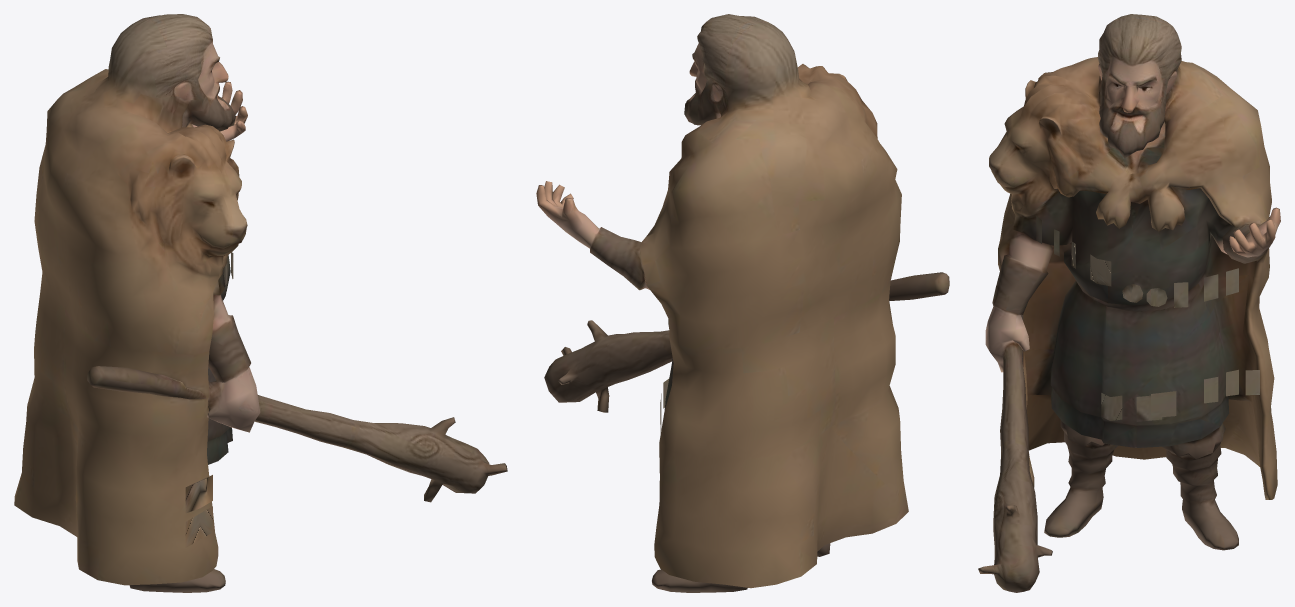
File: ogma.glb
3 renders of one model, left to right at view 1: azimuth 30°, elevation 25°; view 2: azimuth 150°, elevation 25°; view 3: azimuth 270°, elevation 25°, orthographic. The views are drawn at different scales.
Visible parts, largest first — view 1: tripo_node_c9b18dc0-d06d-40cf-9058-c16427da4a81; view 2: tripo_node_c9b18dc0-d06d-40cf-9058-c16427da4a81; view 3: tripo_node_c9b18dc0-d06d-40cf-9058-c16427da4a81.
Boxes of the visible parts, left/top/right/bottom form: tripo_node_c9b18dc0-d06d-40cf-9058-c16427da4a81: left=14, top=14, right=507, bottom=592; tripo_node_c9b18dc0-d06d-40cf-9058-c16427da4a81: left=536, top=14, right=949, bottom=592; tripo_node_c9b18dc0-d06d-40cf-9058-c16427da4a81: left=978, top=14, right=1280, bottom=592.
Size of the model in its own units: 0.7832 by 0.998 by 0.5371.
1 material, 1 textured.
